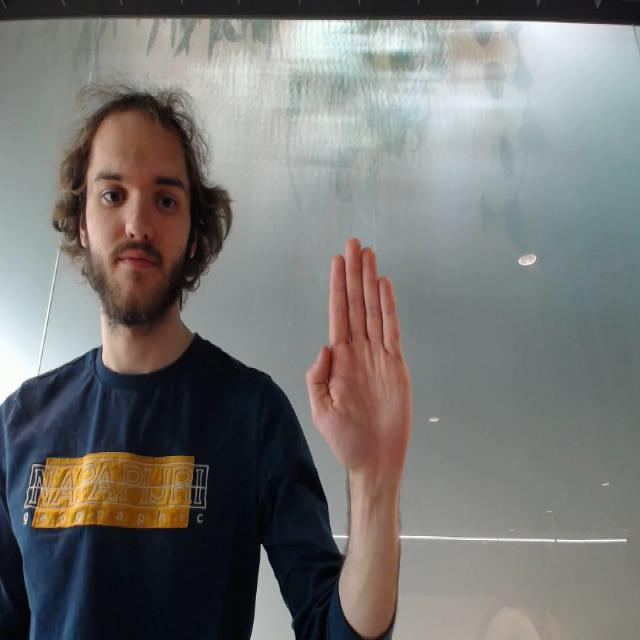backward: (291, 232, 430, 480)
